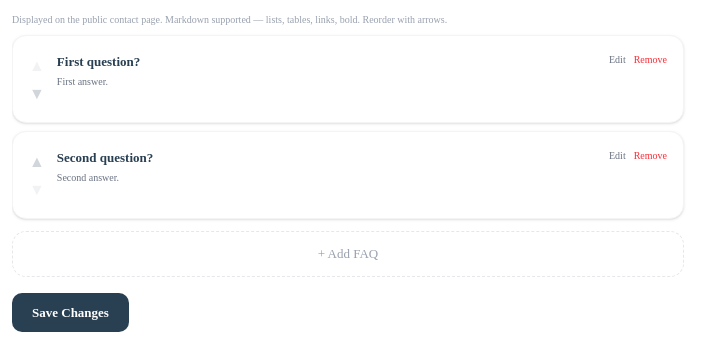
Test: FaqsTab › moves an item down and back up
The width and height of the screenshot is (701, 349).
Click the button "▼" next to "First answer.".
click(37, 94)  # box [29,82,45,106]
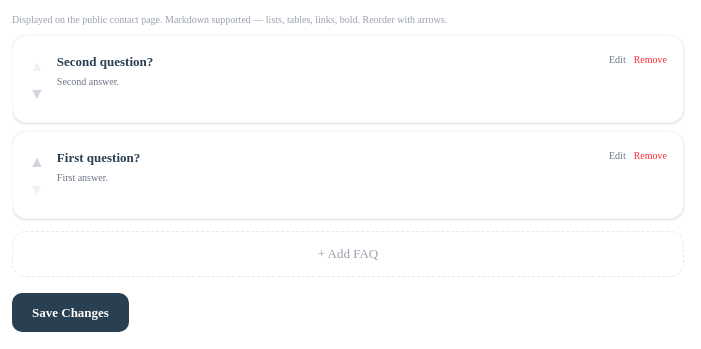
Check: the text "Second question?" is shown, box [57,54,153,69]
Click the button "▲" next to "First question?".
click(37, 162)  # box [29,150,45,174]
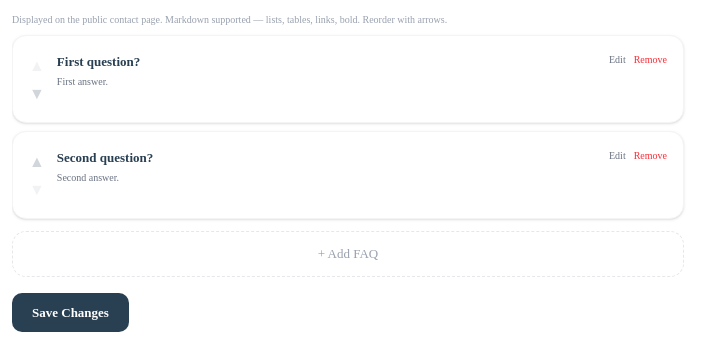
Check: the text "First question?" is shown, box [57,54,140,69]
